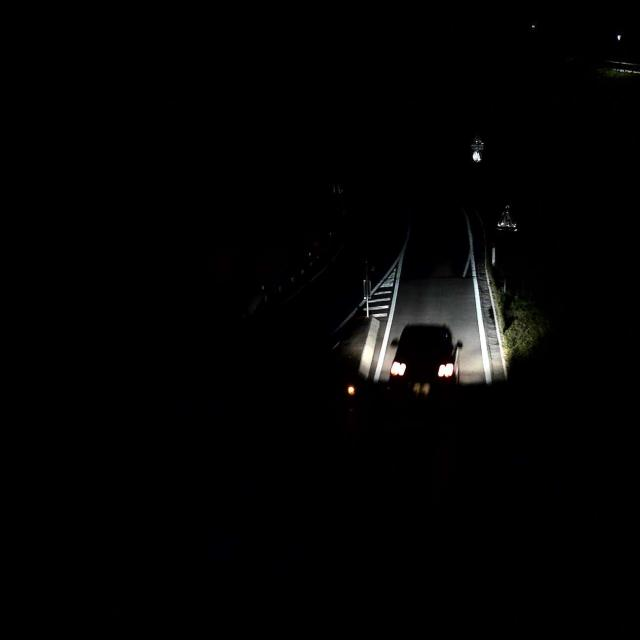car: (388, 322, 462, 400)
